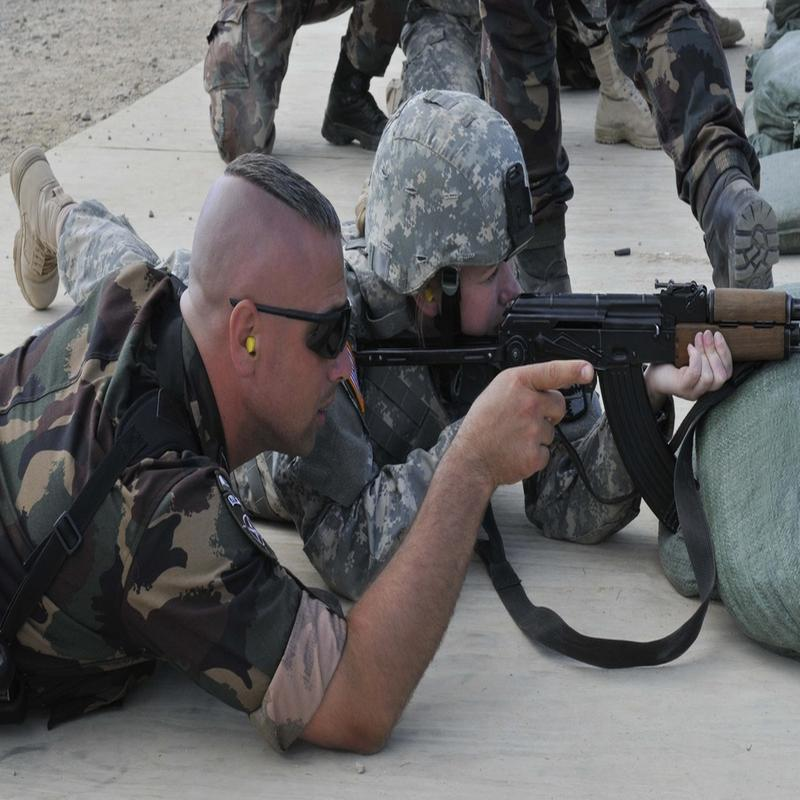GUN: (356, 266, 800, 547)
